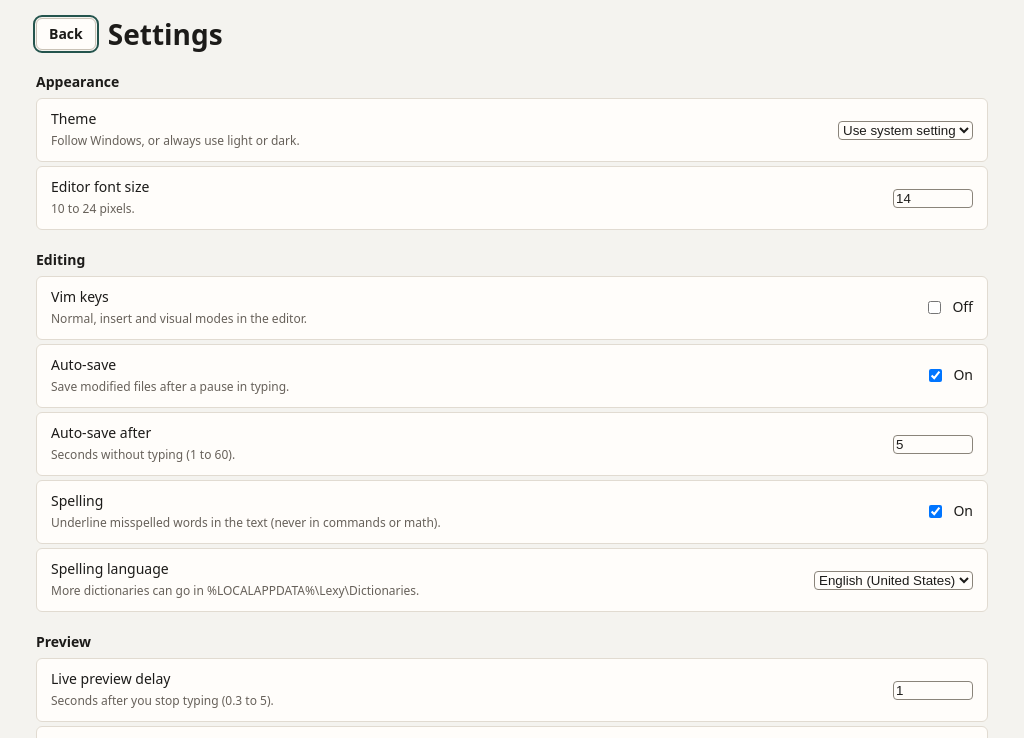
Test: SettingsDialog › clamps numbers to their range and converts seconds
The image size is (1024, 738).
Later steps or results of the test are not shown.
Replace the text in the number field labelled "Editor font size 10 to 24 pixels." with "99": [933, 198] box left=893, top=189, right=973, bottom=208
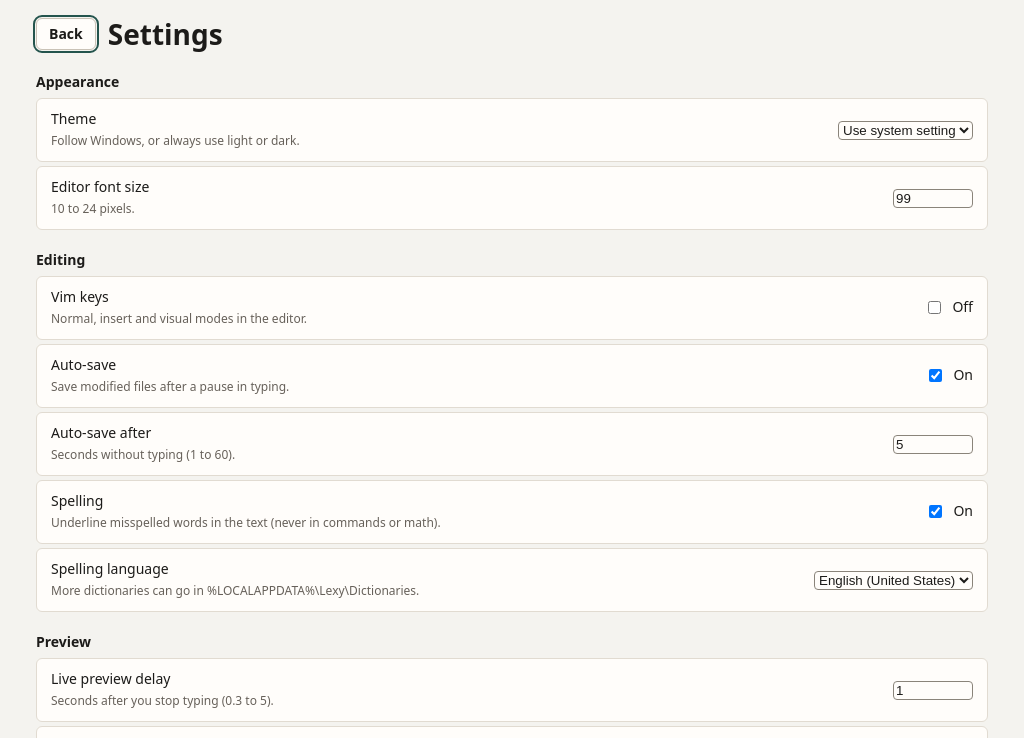
Leave the number field labelled "Editor font size 10 to 24 pixels.", box left=893, top=189, right=973, bottom=208
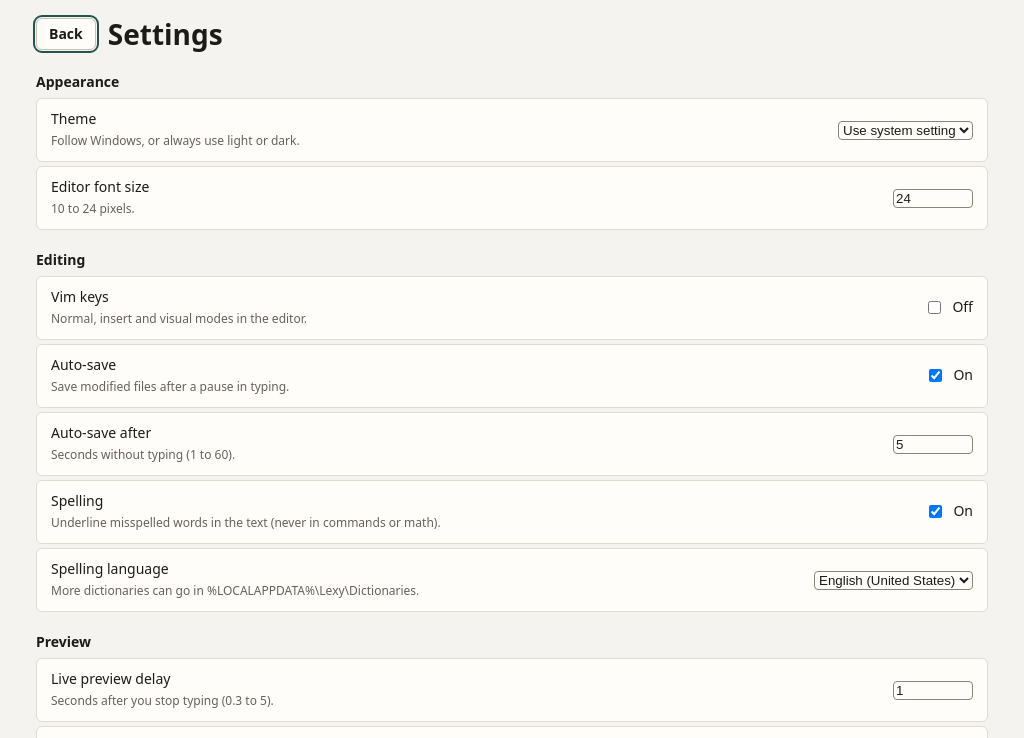
Result: the number field labelled "Editor font size 10 to 24 pixels." holds "24" at left=893, top=189, right=973, bottom=208
